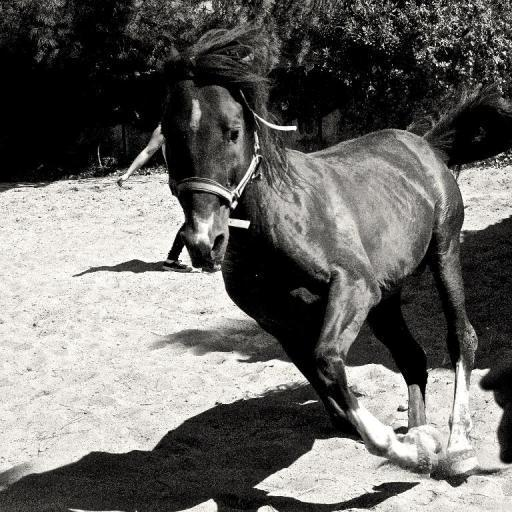horse: (156, 20, 482, 484)
